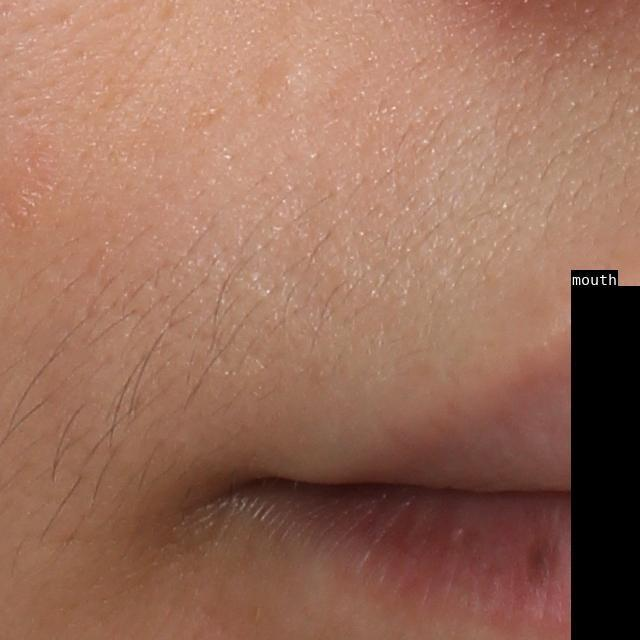comedo: (271, 57, 309, 102)
nevus: (527, 539, 560, 585)
